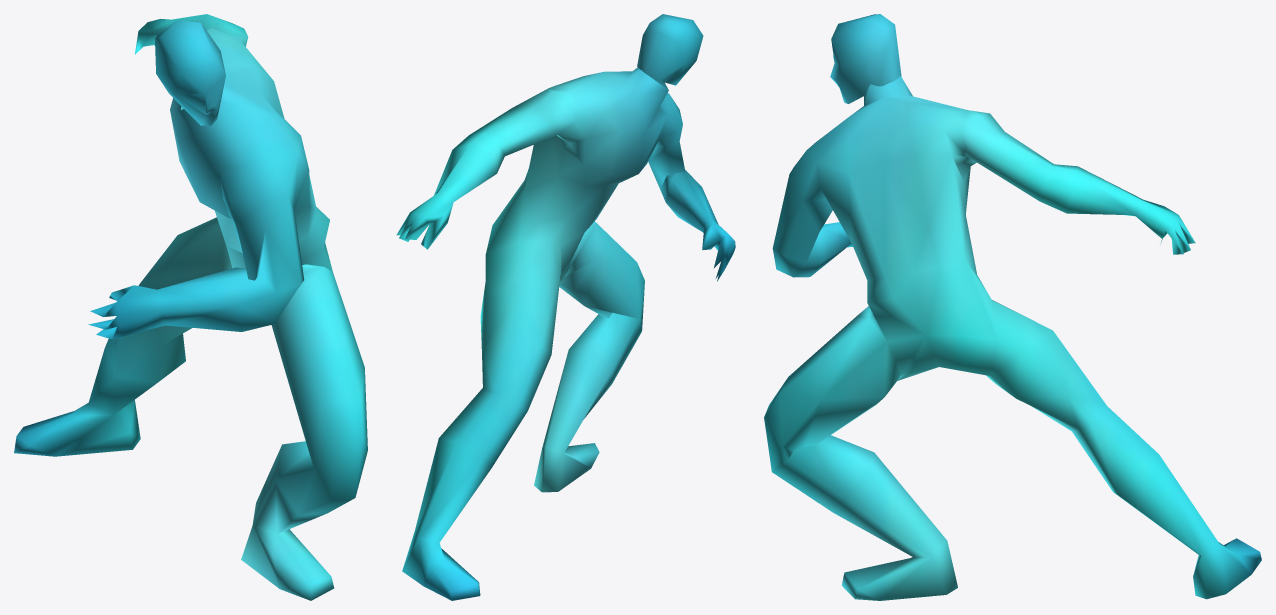
File: Ani_Cq_Att_03_01.FBX
3 views of the same model, side by side, from view 1: azimuth 30°, elevation 25°; view 2: azimuth 150°, elevation 25°; view 3: azimuth 270°, elevation 25° (orthographic). The views are drawn at different scales.
Visible parts, largest first — view 1: head; view 2: head; view 3: head.
Boxes of the visible parts, x1,y1,x2,y2 form: head: (14,14,367,600); head: (396,14,735,600); head: (764,14,1261,600).
Bounding box in the file's own units: 15.33 × 33.77 × 29.11.
